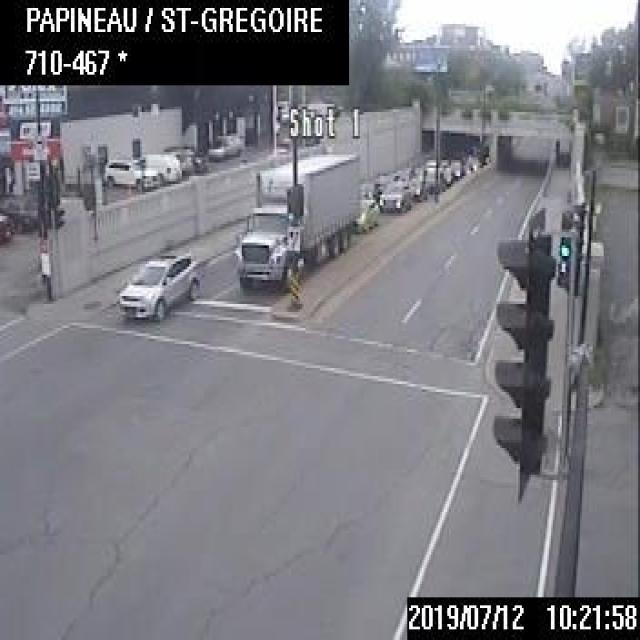vehicle: (233, 144, 363, 285), (115, 248, 200, 317), (99, 153, 160, 190), (136, 150, 180, 182), (375, 176, 411, 212), (163, 144, 205, 174), (204, 132, 243, 160), (353, 198, 378, 228), (0, 209, 16, 246)
